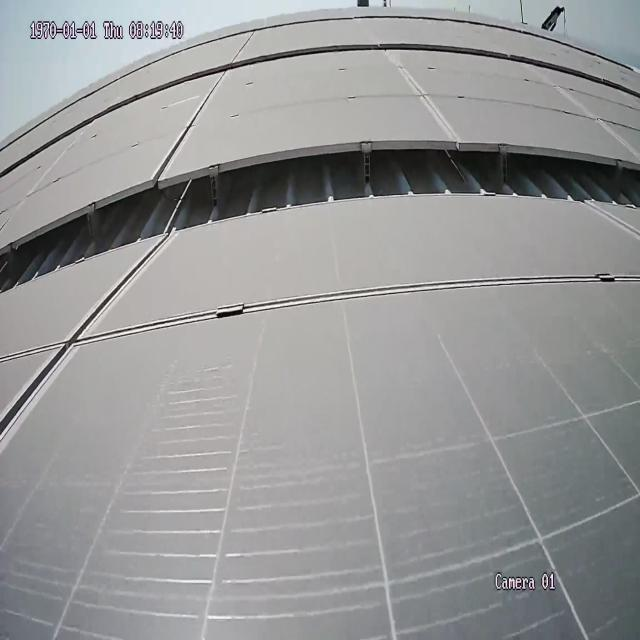interior panel: (0, 242, 629, 466), (540, 74, 635, 147), (151, 82, 226, 168), (385, 59, 457, 130)
outher panel: (3, 148, 640, 303)
